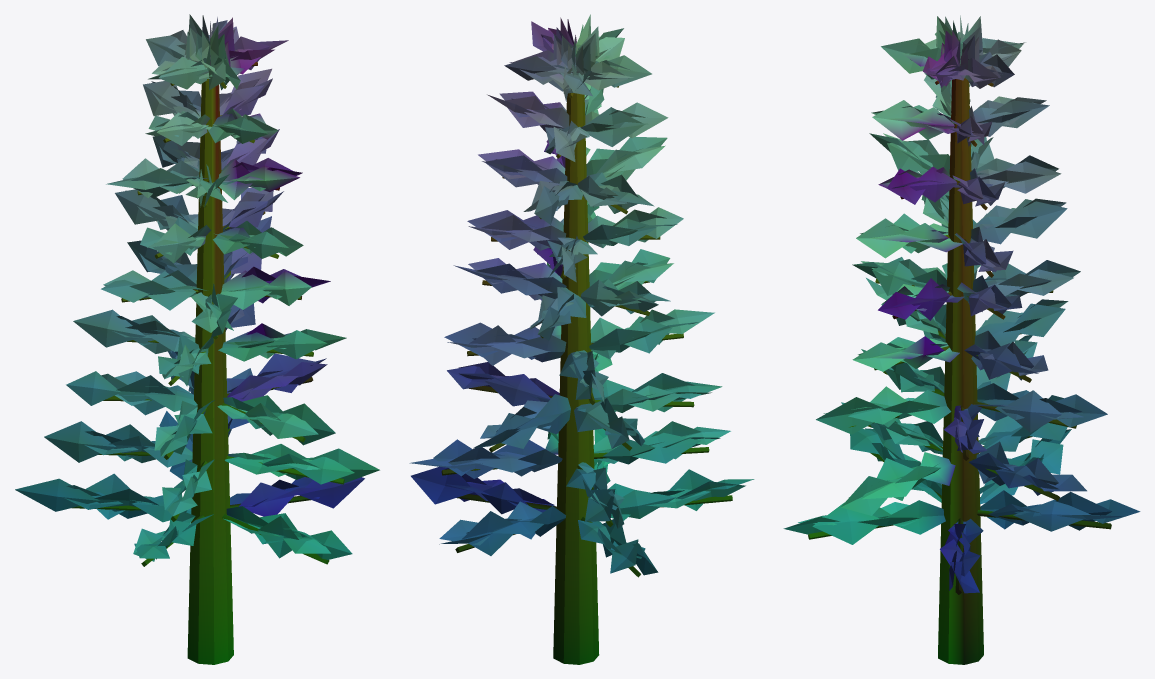
File: mature_conifer_03.glb
3 renders of one model, left to right at view 1: azimuth 30°, elevation 25°; view 2: azimuth 150°, elevation 25°; view 3: azimuth 270°, elevation 25°, orthographic.
Parts seen in each view (by area): view 1: mature_conifer_03; view 2: mature_conifer_03; view 3: mature_conifer_03.
Part boxes in pixels (box(x1,y1,x2,y2)): mature_conifer_03: box(15, 14, 379, 664); mature_conifer_03: box(409, 14, 754, 664); mature_conifer_03: box(783, 15, 1140, 664).
Bounding box in the file's own units: 7.74 × 15.54 × 7.9.
